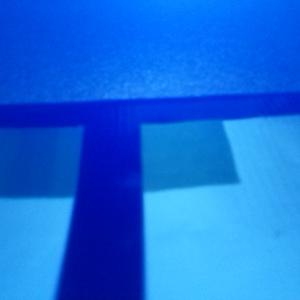bottom_left: (1, 102, 137, 197)
bottom_right: (86, 100, 241, 191)
